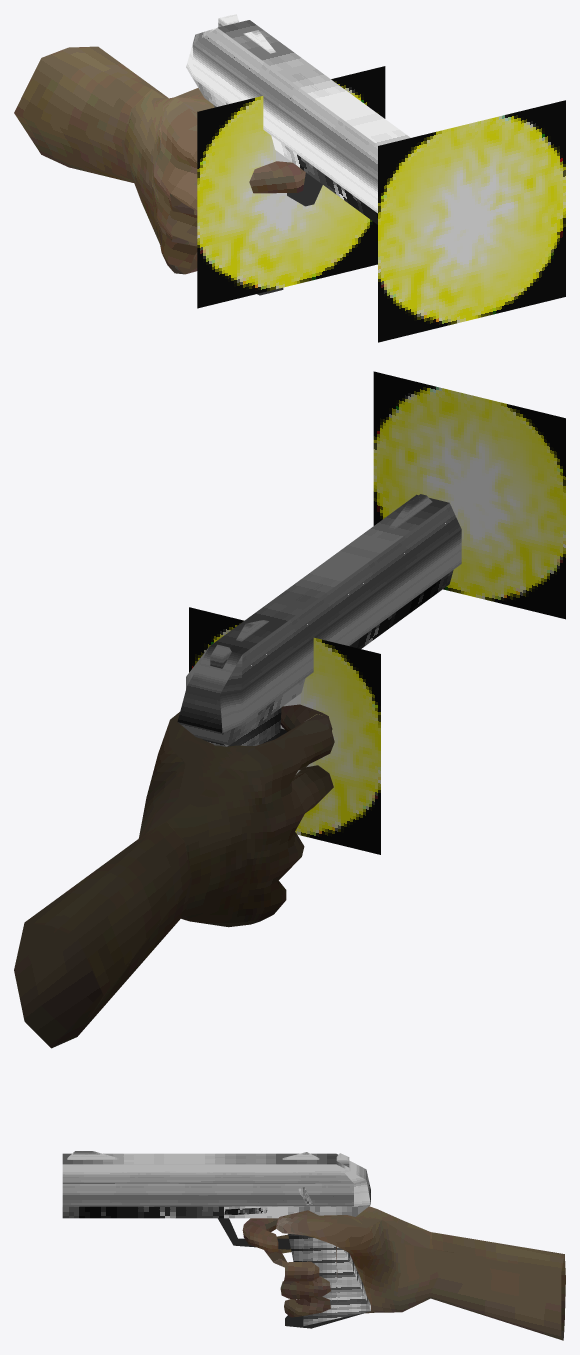
File: Gtt33Z.obj
The picture shows the model from 3 angles, top to bottom: view 1: azimuth 30°, elevation 25°; view 2: azimuth 150°, elevation 25°; view 3: azimuth 270°, elevation 25°; orthographic projection. The views are drawn at different scales.
Bounding box in the file's own units: 128 × 223 × 481.
Materials: 36 (36 with a texture image).
